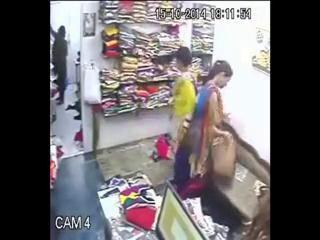shoplifting: (188, 64, 244, 192)
